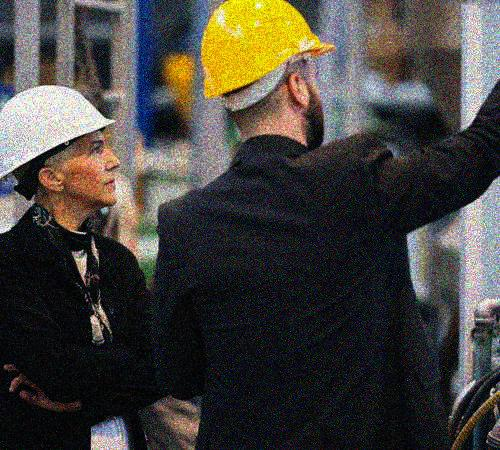helmet: (197, 1, 337, 148), (1, 84, 125, 211)
